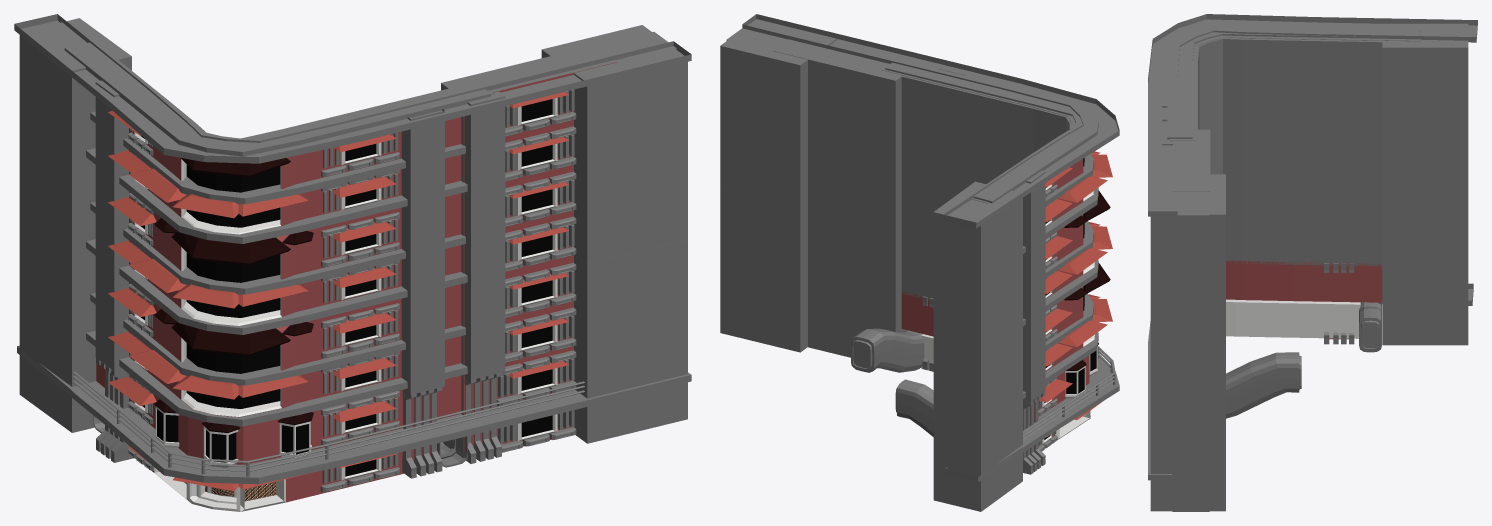
The model's file is Building07.FBX.
The picture shows the model from 3 angles, left to right: view 1: azimuth 30°, elevation 25°; view 2: azimuth 150°, elevation 25°; view 3: azimuth 270°, elevation 25°; orthographic projection. The views are drawn at different scales.
Visible parts, largest first — view 1: polySurface3713, LightFacade, Brick, Canopies, Windows, Sills, OverHangs; view 2: polySurface3713, LightFacade, Canopies, Brick, OverHangs, Sills, Windows; view 3: polySurface3713, LightFacade, Brick.
Part boxes in pixels (box(x1,y1,x2,y2)): polySurface3713: box(14, 14, 691, 502); LightFacade: box(17, 80, 691, 492); Brick: box(96, 62, 617, 511); Canopies: box(108, 92, 568, 491); Windows: box(141, 99, 552, 476); Sills: box(134, 97, 557, 480); OverHangs: box(154, 158, 313, 432); polySurface3713: box(720, 14, 1119, 511); LightFacade: box(850, 57, 1119, 482); Canopies: box(1038, 151, 1112, 436); Brick: box(921, 159, 1093, 449); OverHangs: box(1064, 190, 1110, 370); Sills: box(1042, 184, 1097, 444); Windows: box(1044, 158, 1096, 439); polySurface3713: box(1148, 14, 1477, 511); LightFacade: box(1148, 106, 1473, 480); Brick: box(1226, 299, 1360, 339).
Size of the model in its own units: 233 by 169 by 165.
Materials: 8 (1 with a texture image).
